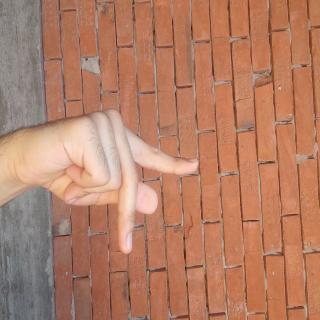DHAA: (75, 149, 192, 320)
